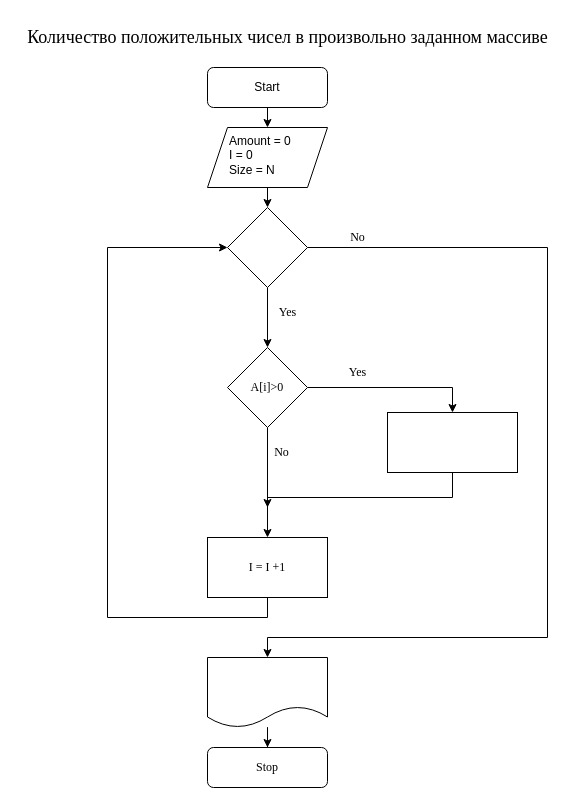
Some shapes in this 574 by 805 pixel diagram are drawn without their labels. Here are the shapes that lost their labels. From the top down, the centre of each, then its label:
At (267,247): "I<=N".
At (452,442): "Amount = Amount + 1".
At (267,692): "Print Amount".
